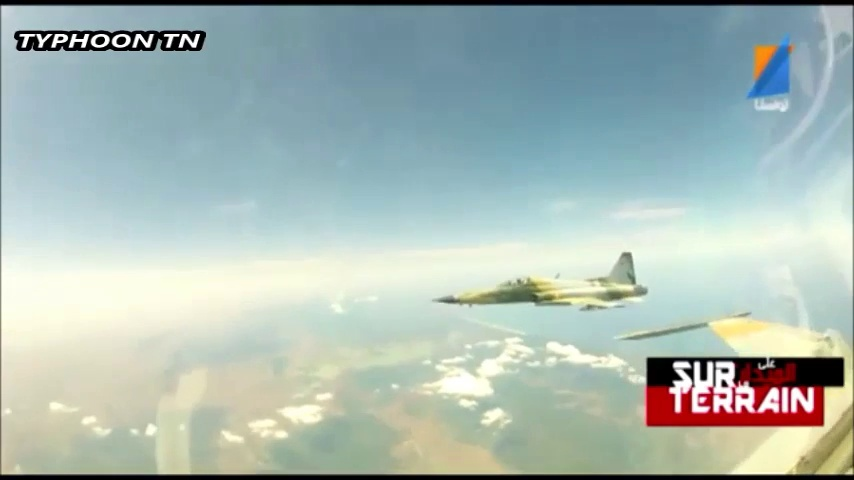Airplane: (430, 248, 647, 315)
